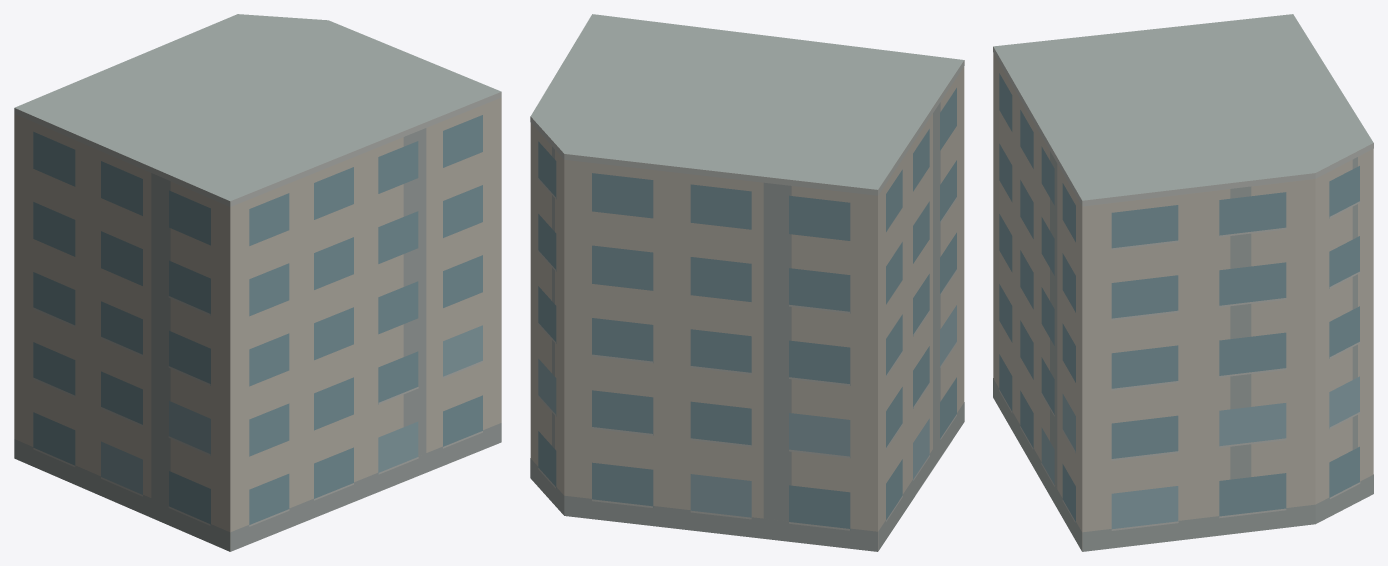
Rendered from survey-upis-32924926.glb.
The picture shows the model from 3 angles, left to right: view 1: azimuth 30°, elevation 25°; view 2: azimuth 150°, elevation 25°; view 3: azimuth 270°, elevation 25°; orthographic projection. The views are drawn at different scales.
Visible parts, largest first — view 1: survey-upis-32924926.tmp; view 2: survey-upis-32924926.tmp; view 3: survey-upis-32924926.tmp.
Part boxes in pixels (x1,y1,x2,y2): survey-upis-32924926.tmp: [14, 14, 501, 551]; survey-upis-32924926.tmp: [530, 14, 964, 551]; survey-upis-32924926.tmp: [993, 14, 1373, 551].
Size of the model in its own units: 16.95 by 14.85 by 14.6.
